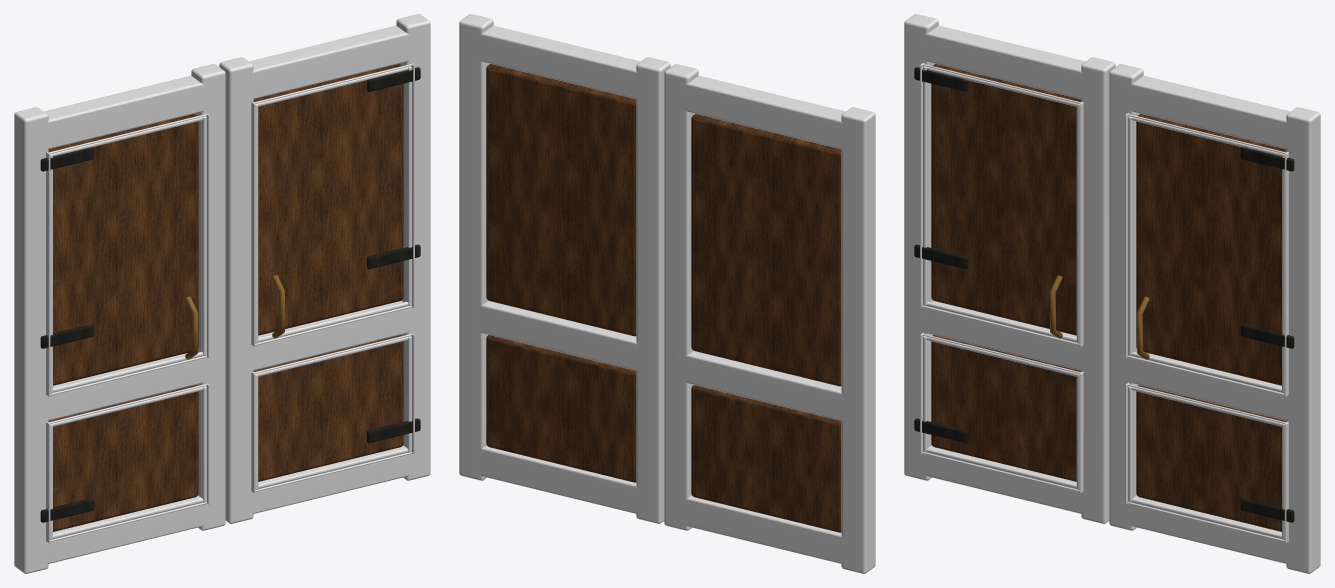
The model's file is EntranceDoors.fbx.
3 renders of one model, left to right at view 1: azimuth 30°, elevation 25°; view 2: azimuth 150°, elevation 25°; view 3: azimuth 330°, elevation 25°, orthographic.
Parts seen in each view (by area): view 1: EntranceDoors_SmokedOak, EntranceDoors_Walnut, EntranceDoors_Iron, EntranceDoors_Brass; view 2: EntranceDoors_SmokedOak, EntranceDoors_Walnut; view 3: EntranceDoors_SmokedOak, EntranceDoors_Walnut, EntranceDoors_Iron, EntranceDoors_Brass.
Boxes of the visible parts, left/top/right/bottom form: EntranceDoors_SmokedOak: left=48, top=64, right=403, bottom=531; EntranceDoors_Walnut: left=14, top=14, right=430, bottom=573; EntranceDoors_Iron: left=40, top=67, right=420, bottom=522; EntranceDoors_Brass: left=185, top=275, right=284, bottom=359; EntranceDoors_SmokedOak: left=486, top=64, right=841, bottom=532; EntranceDoors_Walnut: left=459, top=14, right=875, bottom=573; EntranceDoors_SmokedOak: left=931, top=64, right=1286, bottom=531; EntranceDoors_Walnut: left=904, top=14, right=1320, bottom=573; EntranceDoors_Iron: left=914, top=67, right=1294, bottom=522; EntranceDoors_Brass: left=1050, top=275, right=1149, bottom=359.
Bounding box in the file's own units: 262 × 280 × 26.11.
